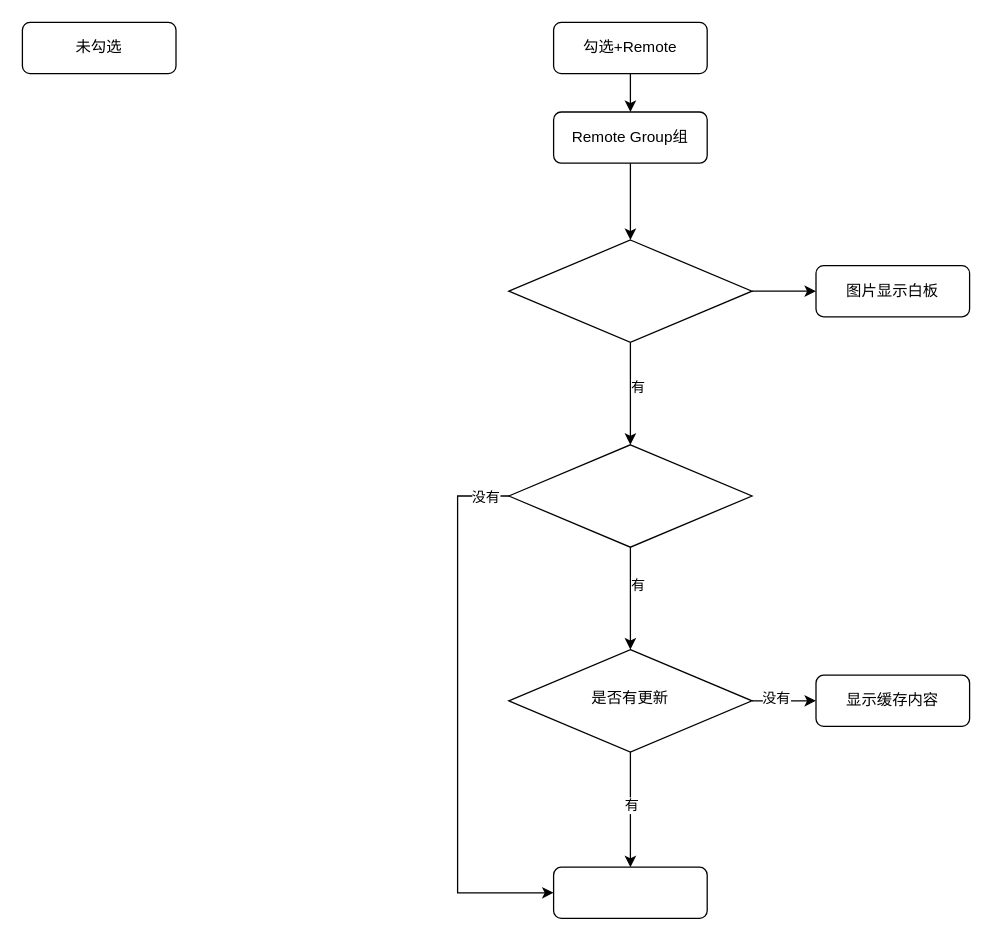
Image size: 992x941. Some labels were removed from this diagram. Here are the shapes that lost their labels. From the top down, the centre of each, then its label:
At (x=630, y=290): "服务器是否有catalog文件".
At (x=630, y=495): "是否有缓存文件".
At (x=629, y=892): "下载资产".
